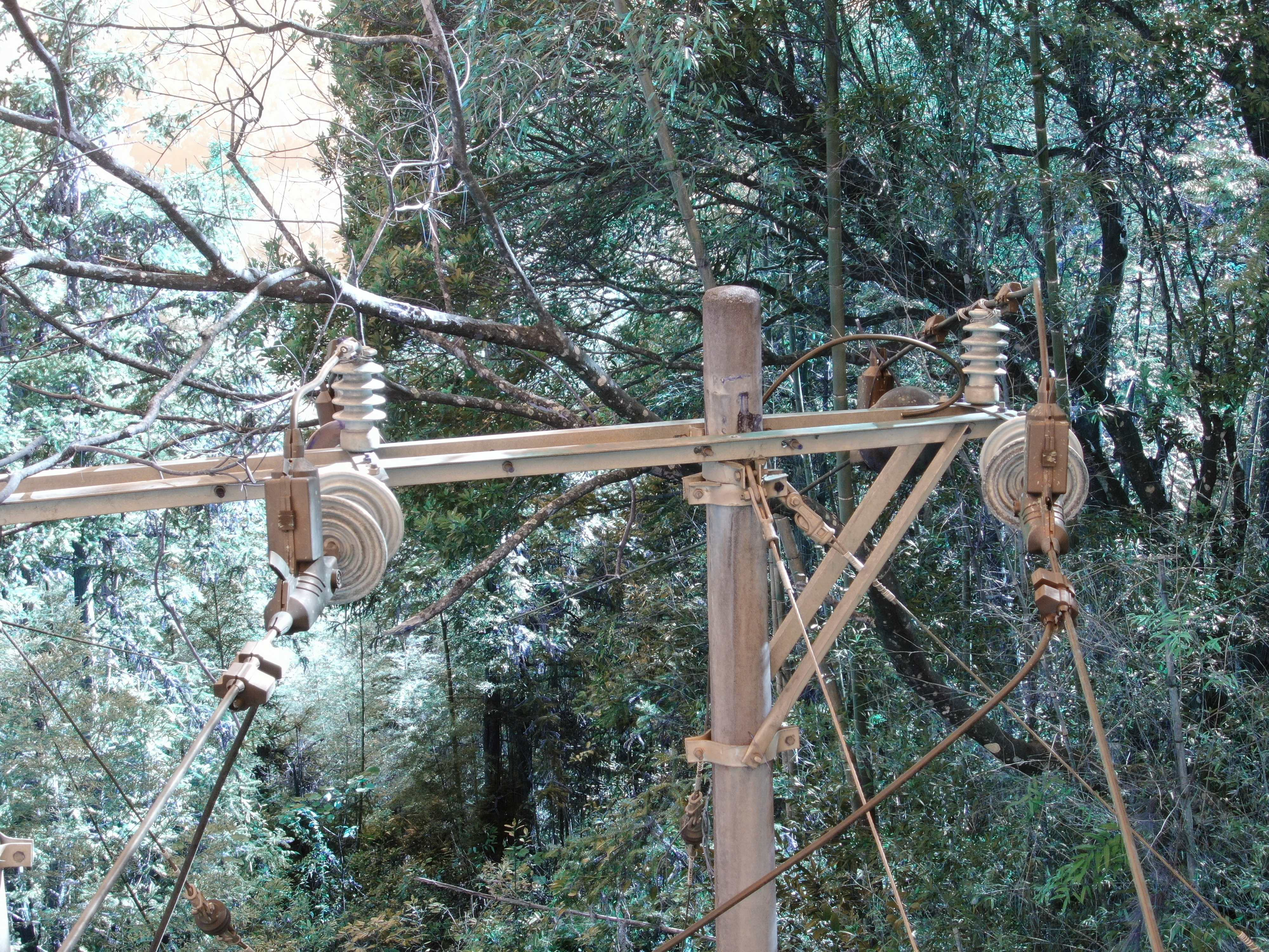severe_soiling_no_discharge_whole: (976, 412, 1090, 529), (318, 470, 406, 604)
